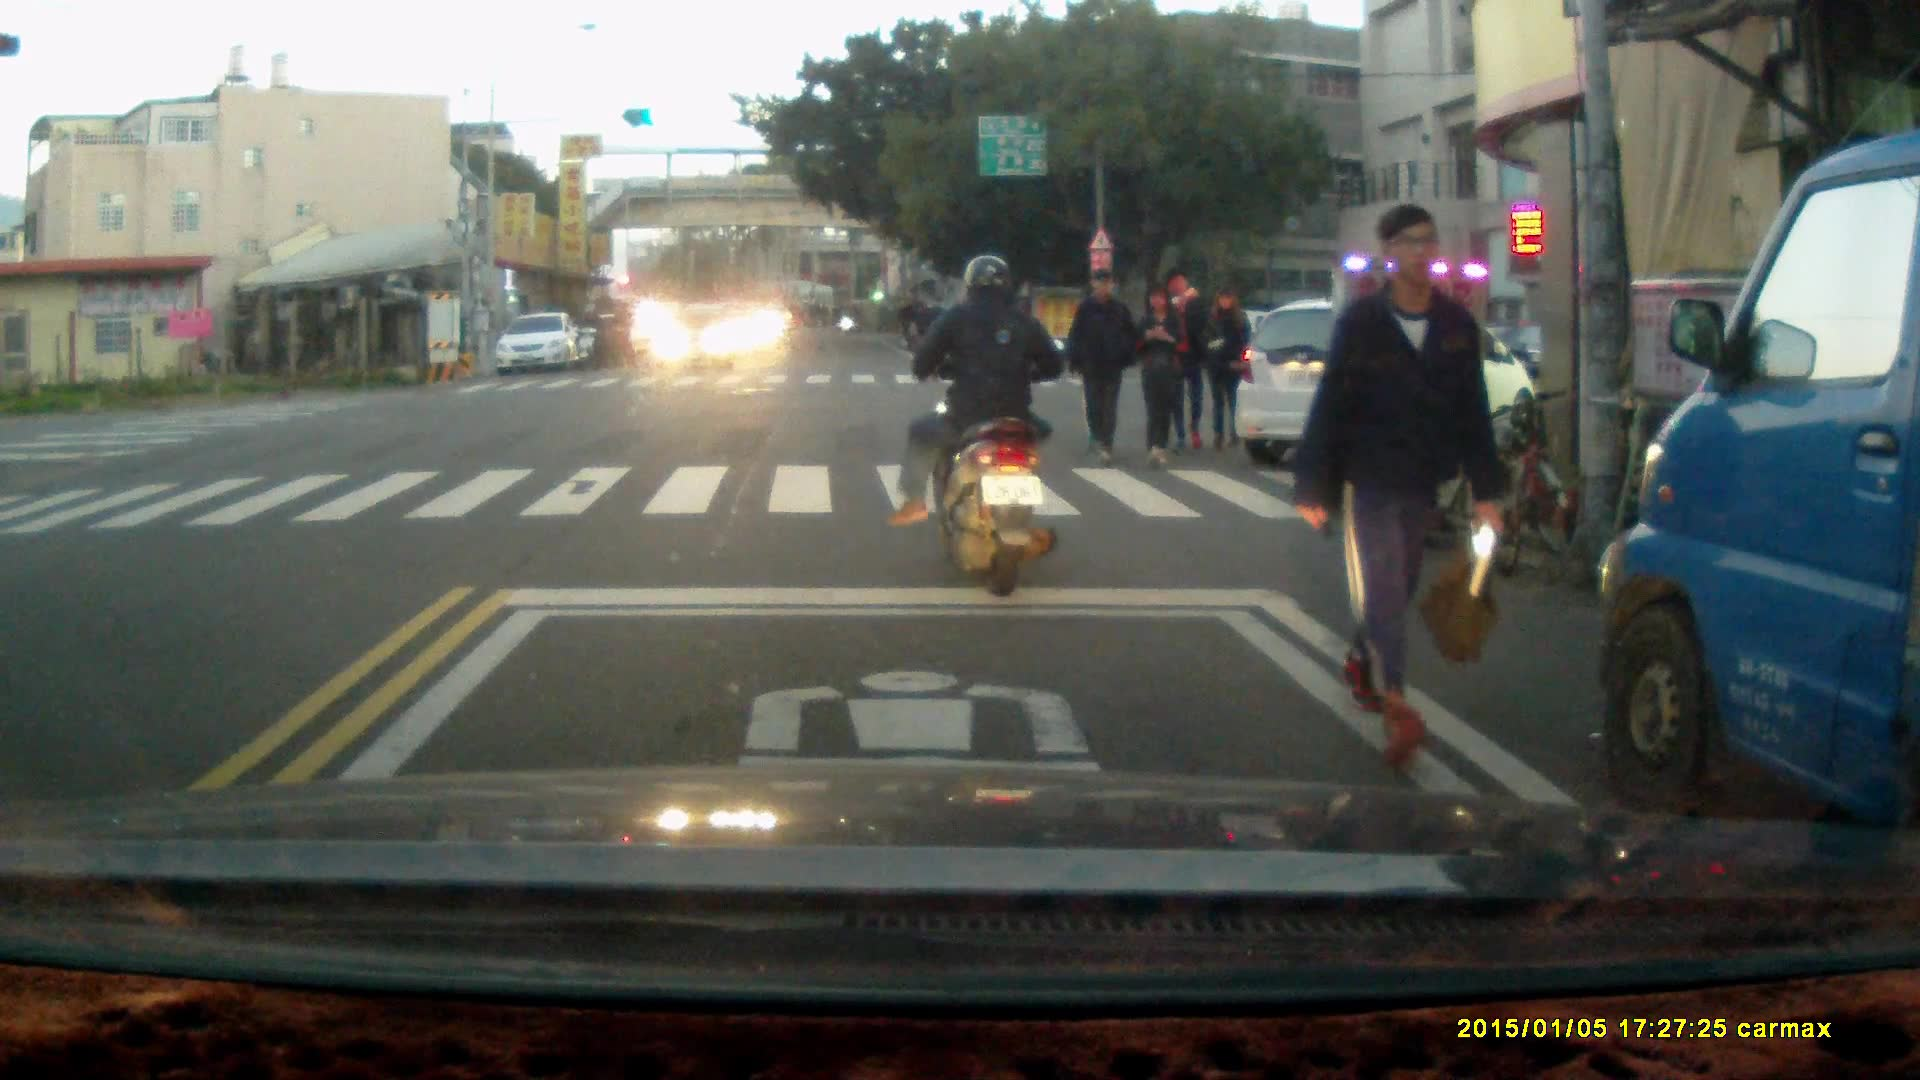pedestrian: (1296, 198, 1504, 758), (1063, 263, 1134, 464), (1132, 281, 1188, 470), (1165, 269, 1208, 461), (1200, 283, 1249, 451)
rider: (898, 253, 1061, 601), (602, 295, 636, 370), (573, 300, 606, 374)
vehicle: (1598, 124, 1920, 900), (1239, 303, 1547, 465), (648, 292, 741, 370), (493, 311, 584, 378)
